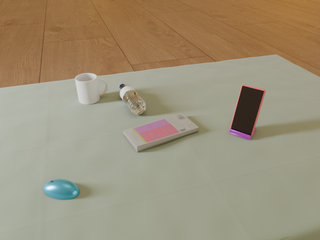book: (123, 113, 199, 152)
bottle: (120, 84, 146, 115)
cup: (75, 73, 108, 104)
mouse: (43, 179, 80, 200)
phone: (230, 85, 266, 136)
